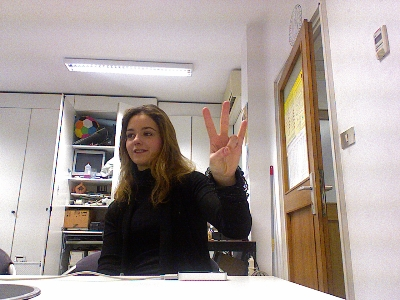观音: (200, 99, 248, 178)
